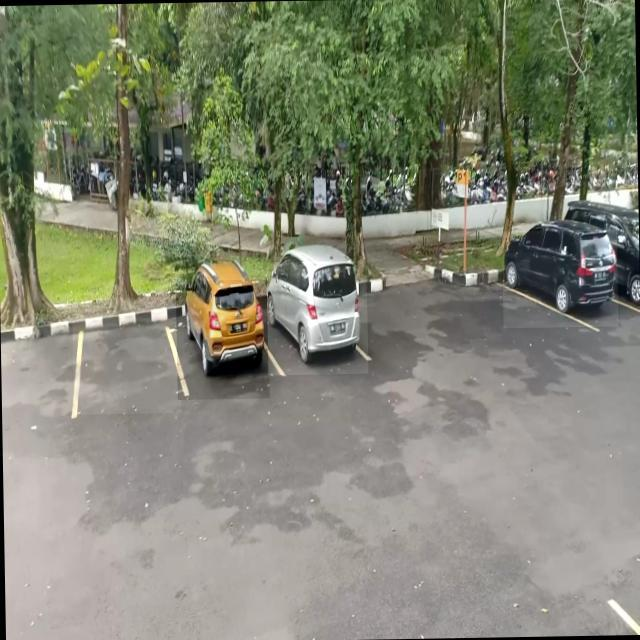empty: (72, 296, 180, 414)
occupied: (266, 260, 368, 375), (502, 229, 618, 328), (176, 278, 270, 399)
